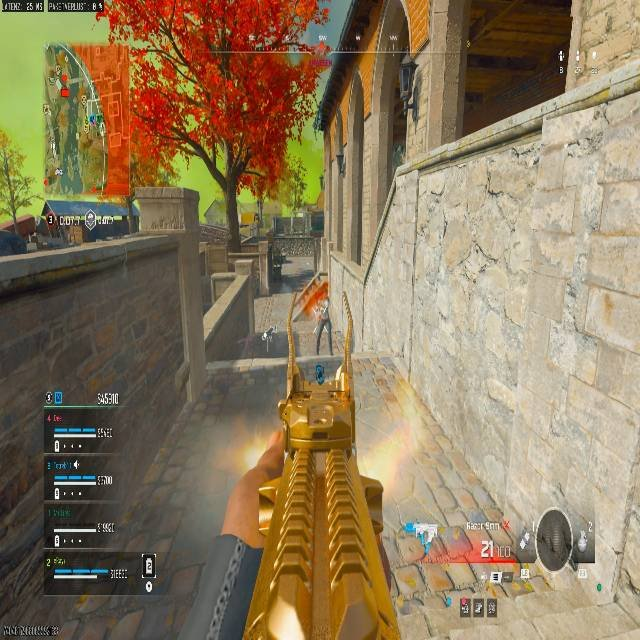player: (314, 363, 324, 384)
